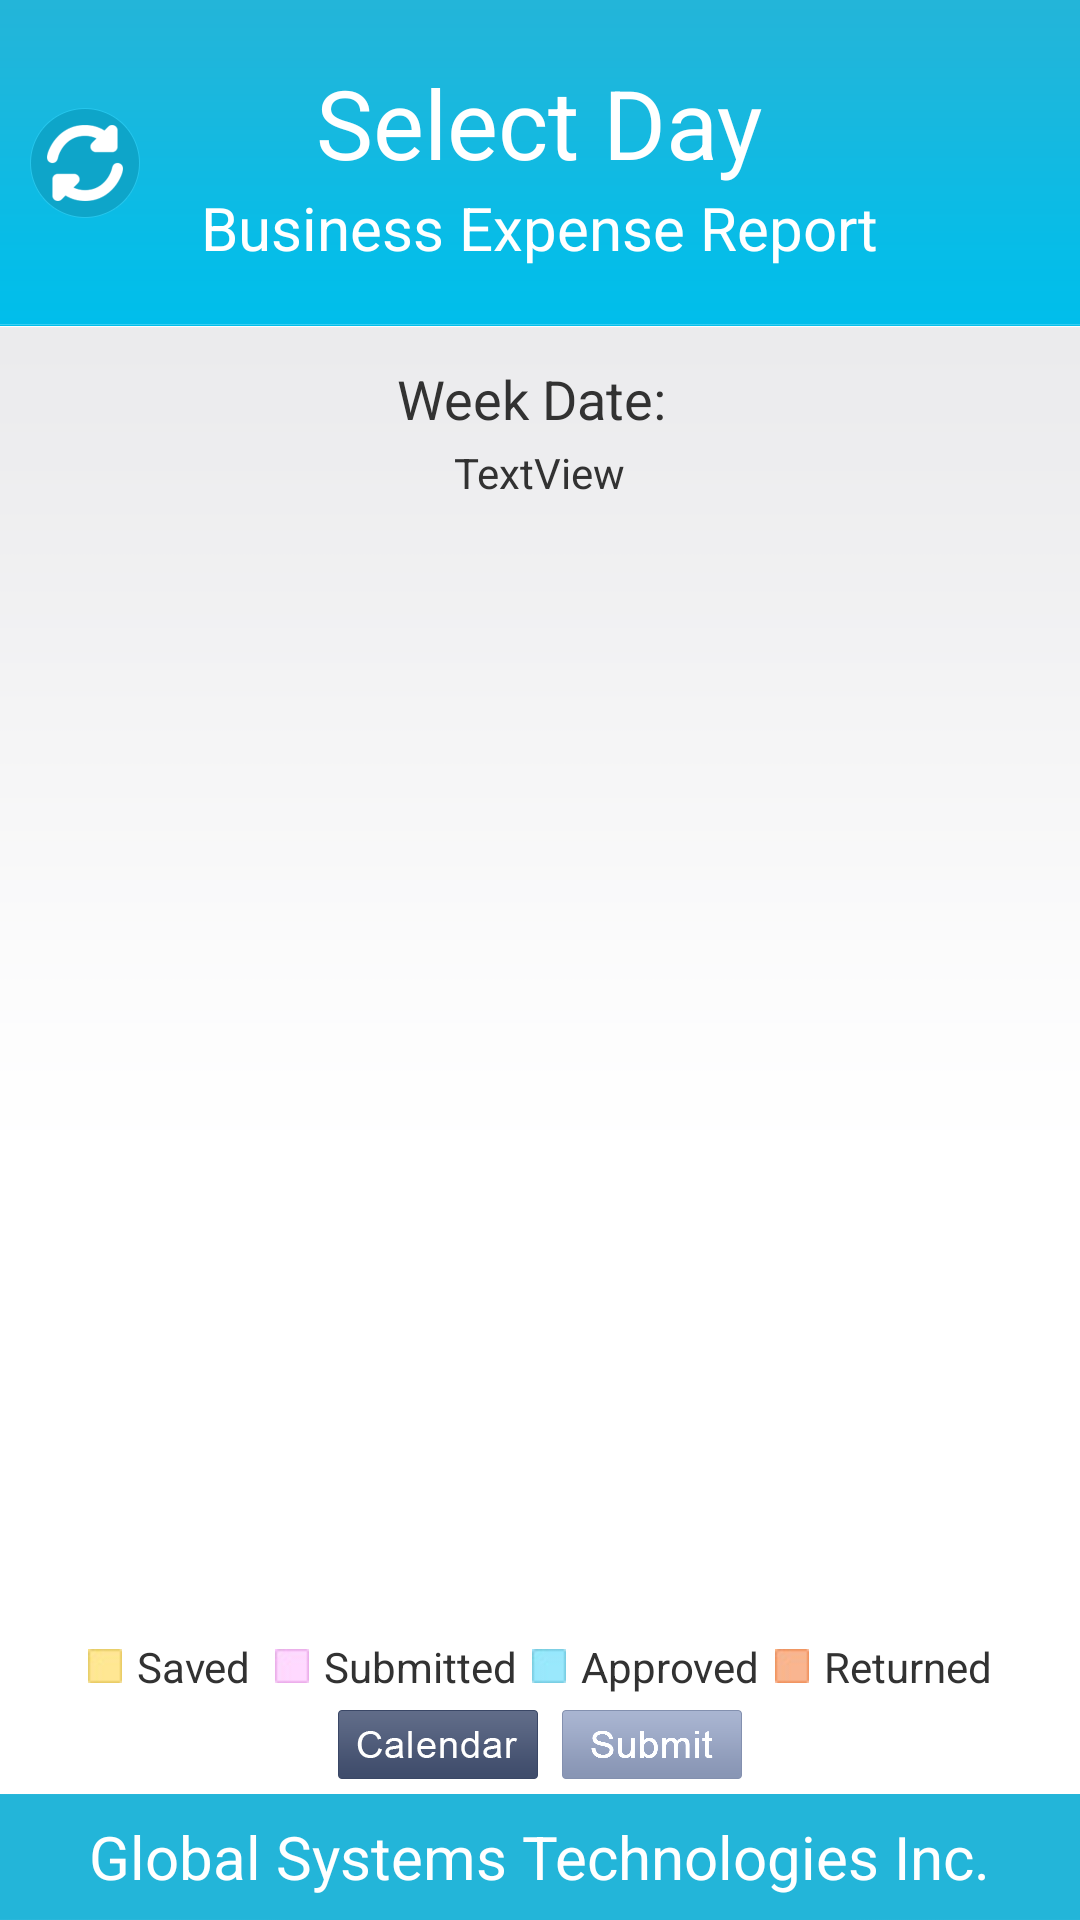

Icon bounding boxes for this 1080w x 1920h phone screenshot, format (x1, y1, x2, y2):
refrshbtn: (0, 108, 170, 248)
